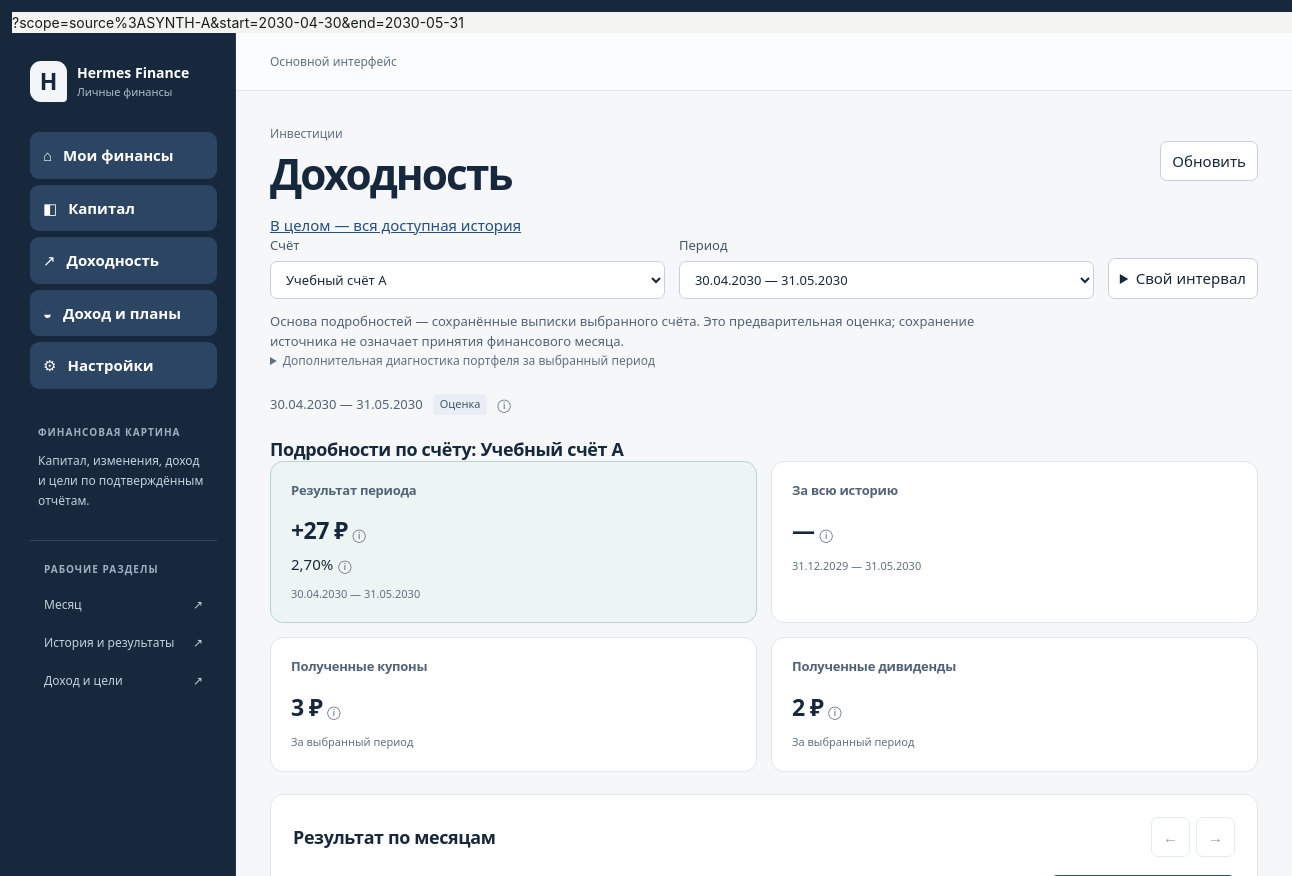
Scenario: source seam context stays behind each metric's details while values remain visible
Expected: the element "Результат периода" shows "+27 ₽", left=291, top=514, right=348, bottom=546
Expected: the element "Результат периода" shows "2,70%", left=291, top=554, right=333, bottom=574
Click the heading named "Подробнее:": (359, 534) left=352, top=525, right=366, bottom=543
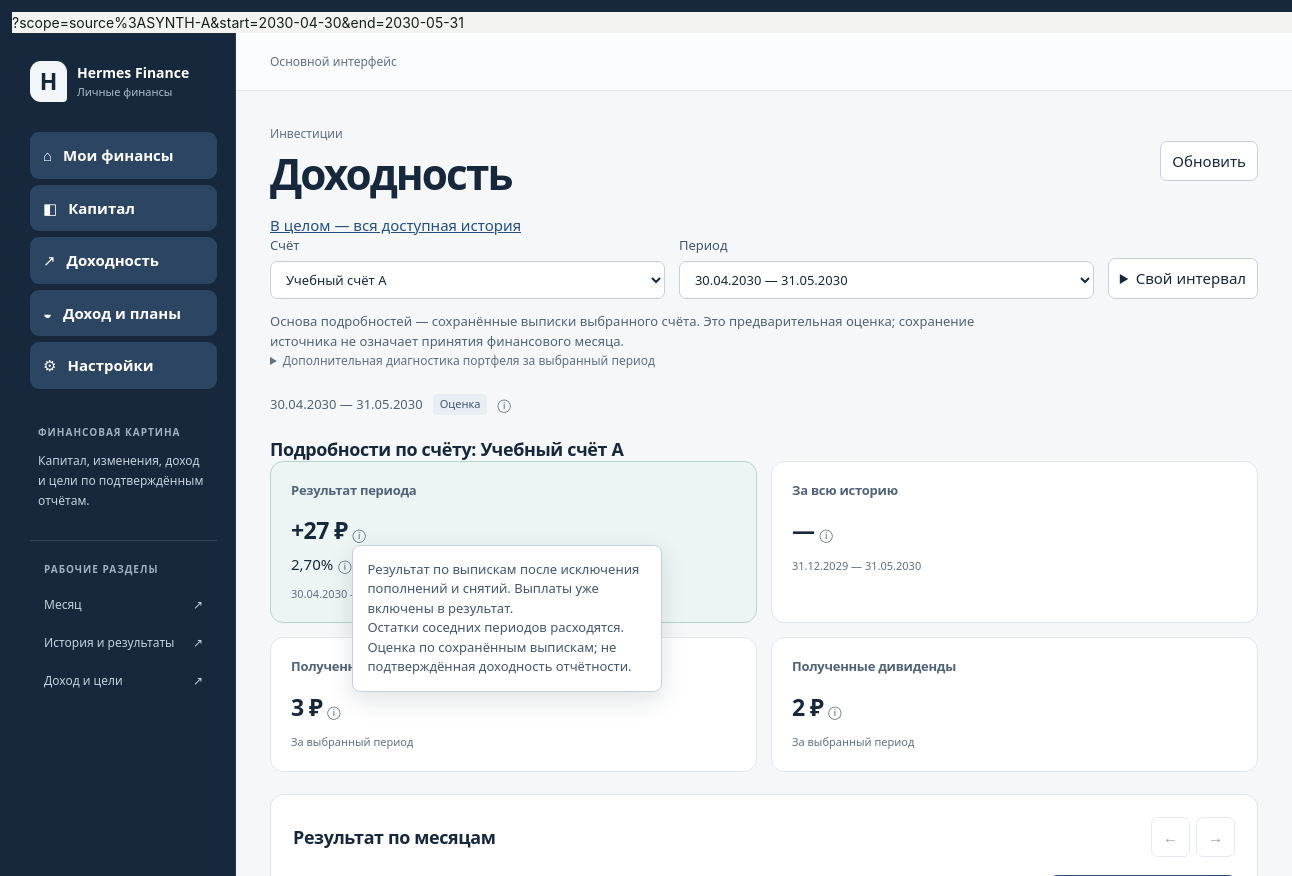
Click the heading named "Подробнее:": (345, 565) left=338, top=556, right=352, bottom=574
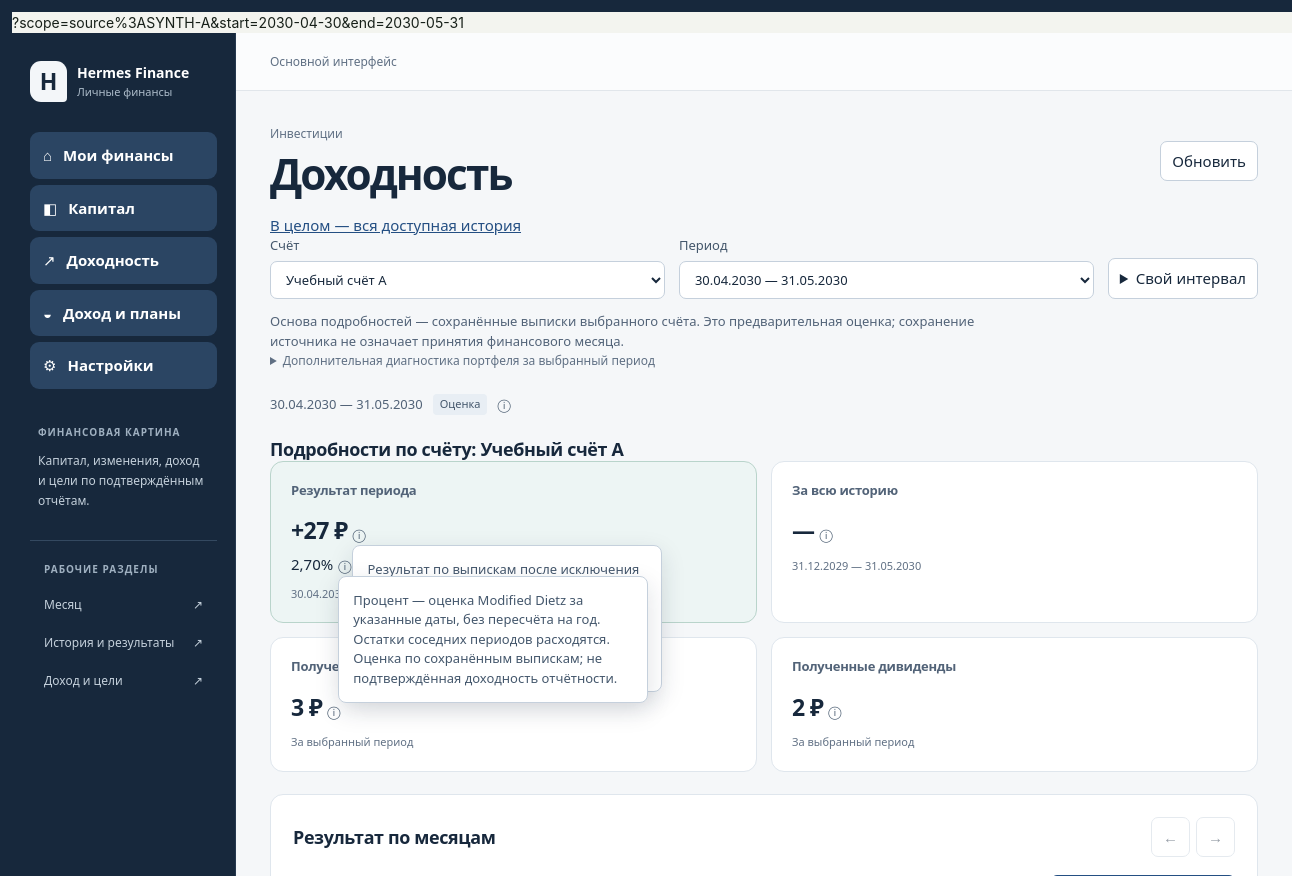
Result: the text "Остатки соседних периодов расходятся." below "+27 ₽" is shown at left=368, top=618, right=624, bottom=636
Result: the text "Остатки соседних периодов расходятся." is shown at left=353, top=630, right=633, bottom=649
Click the heading named "Подробнее:": (334, 710) left=327, top=702, right=341, bottom=720
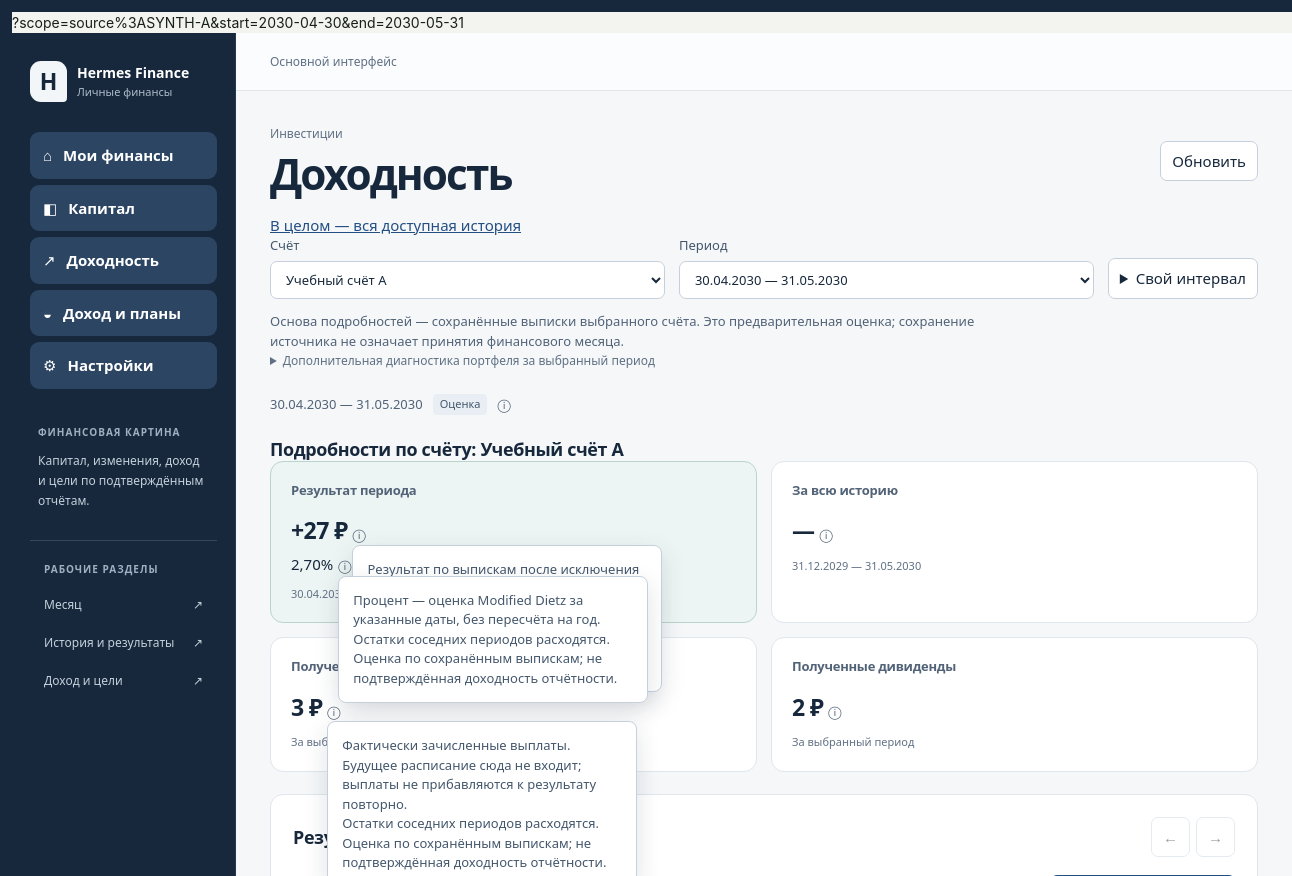
Result: the text "Остатки соседних периодов расходятся." below "3 ₽" is shown at left=342, top=814, right=599, bottom=832
Click the heading named "Подробнее:": (835, 710) left=828, top=702, right=842, bottom=720
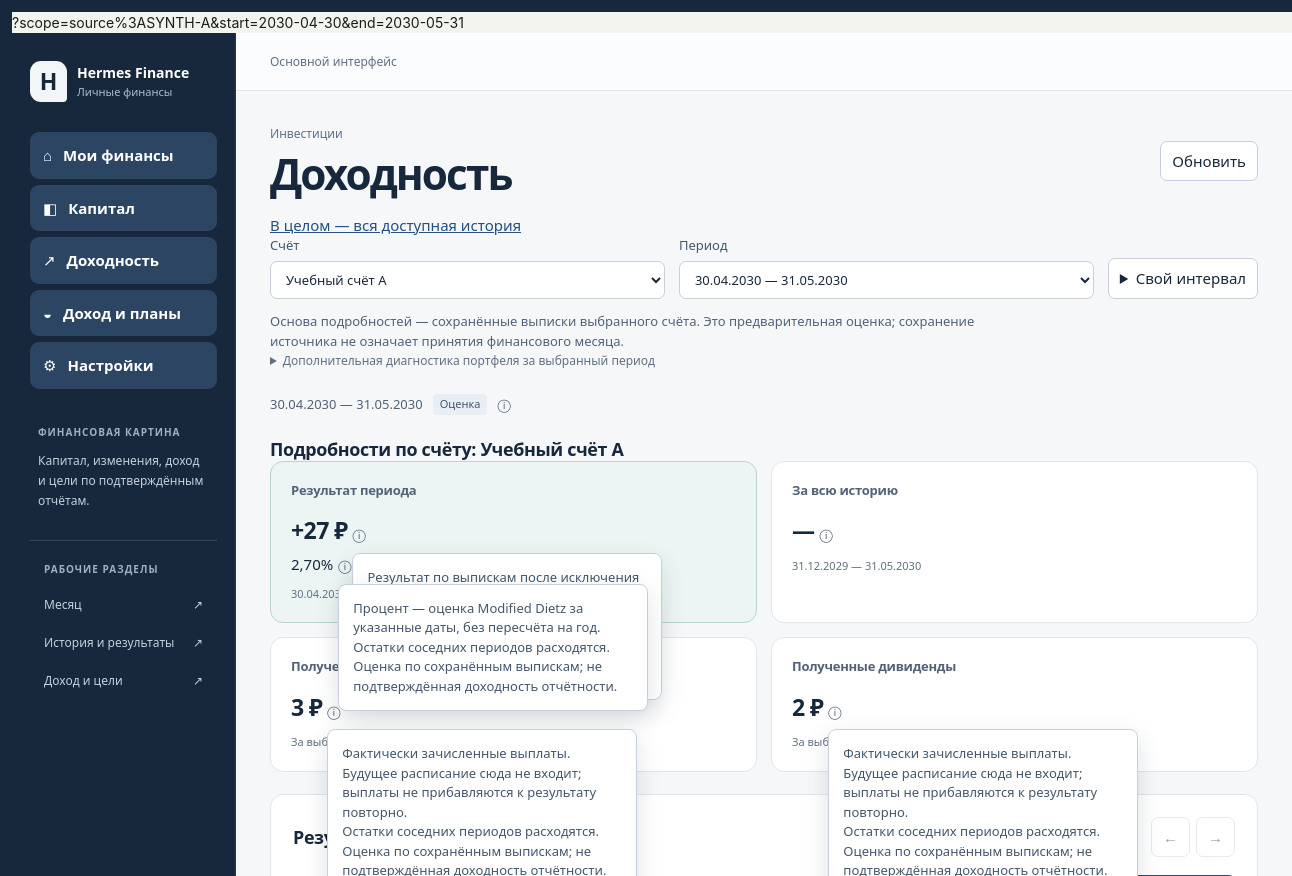
Result: the text "Остатки соседних периодов расходятся." below "2 ₽" is shown at left=843, top=822, right=1100, bottom=840
